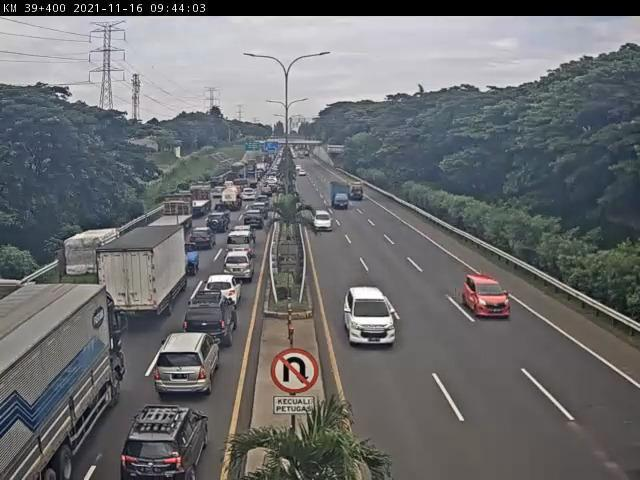car: (115, 412, 206, 480), (154, 333, 222, 398), (346, 286, 400, 349), (185, 292, 241, 347), (462, 274, 514, 320), (206, 277, 245, 306), (228, 230, 259, 260), (224, 253, 255, 282), (188, 227, 212, 252), (205, 216, 225, 236)
truck: (2, 290, 121, 480), (93, 225, 190, 329), (59, 228, 128, 311), (143, 196, 191, 240), (182, 188, 213, 219)
